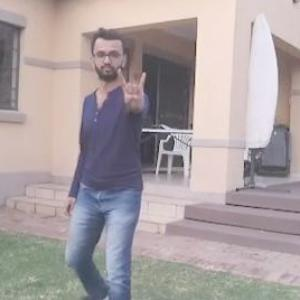takeoff-hand: (114, 63, 154, 112)
